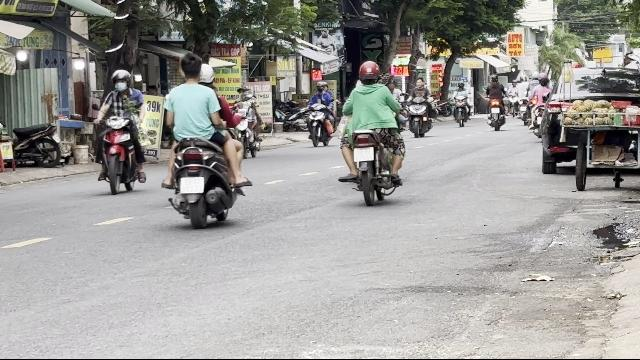helmet: (356, 60, 379, 84), (110, 69, 130, 91), (198, 63, 214, 84)
licenseplate: (180, 178, 203, 192), (353, 147, 372, 161)
motorcyclist: (159, 53, 251, 227), (336, 59, 406, 204), (92, 68, 148, 194)
nohelmet: (178, 52, 202, 82)
